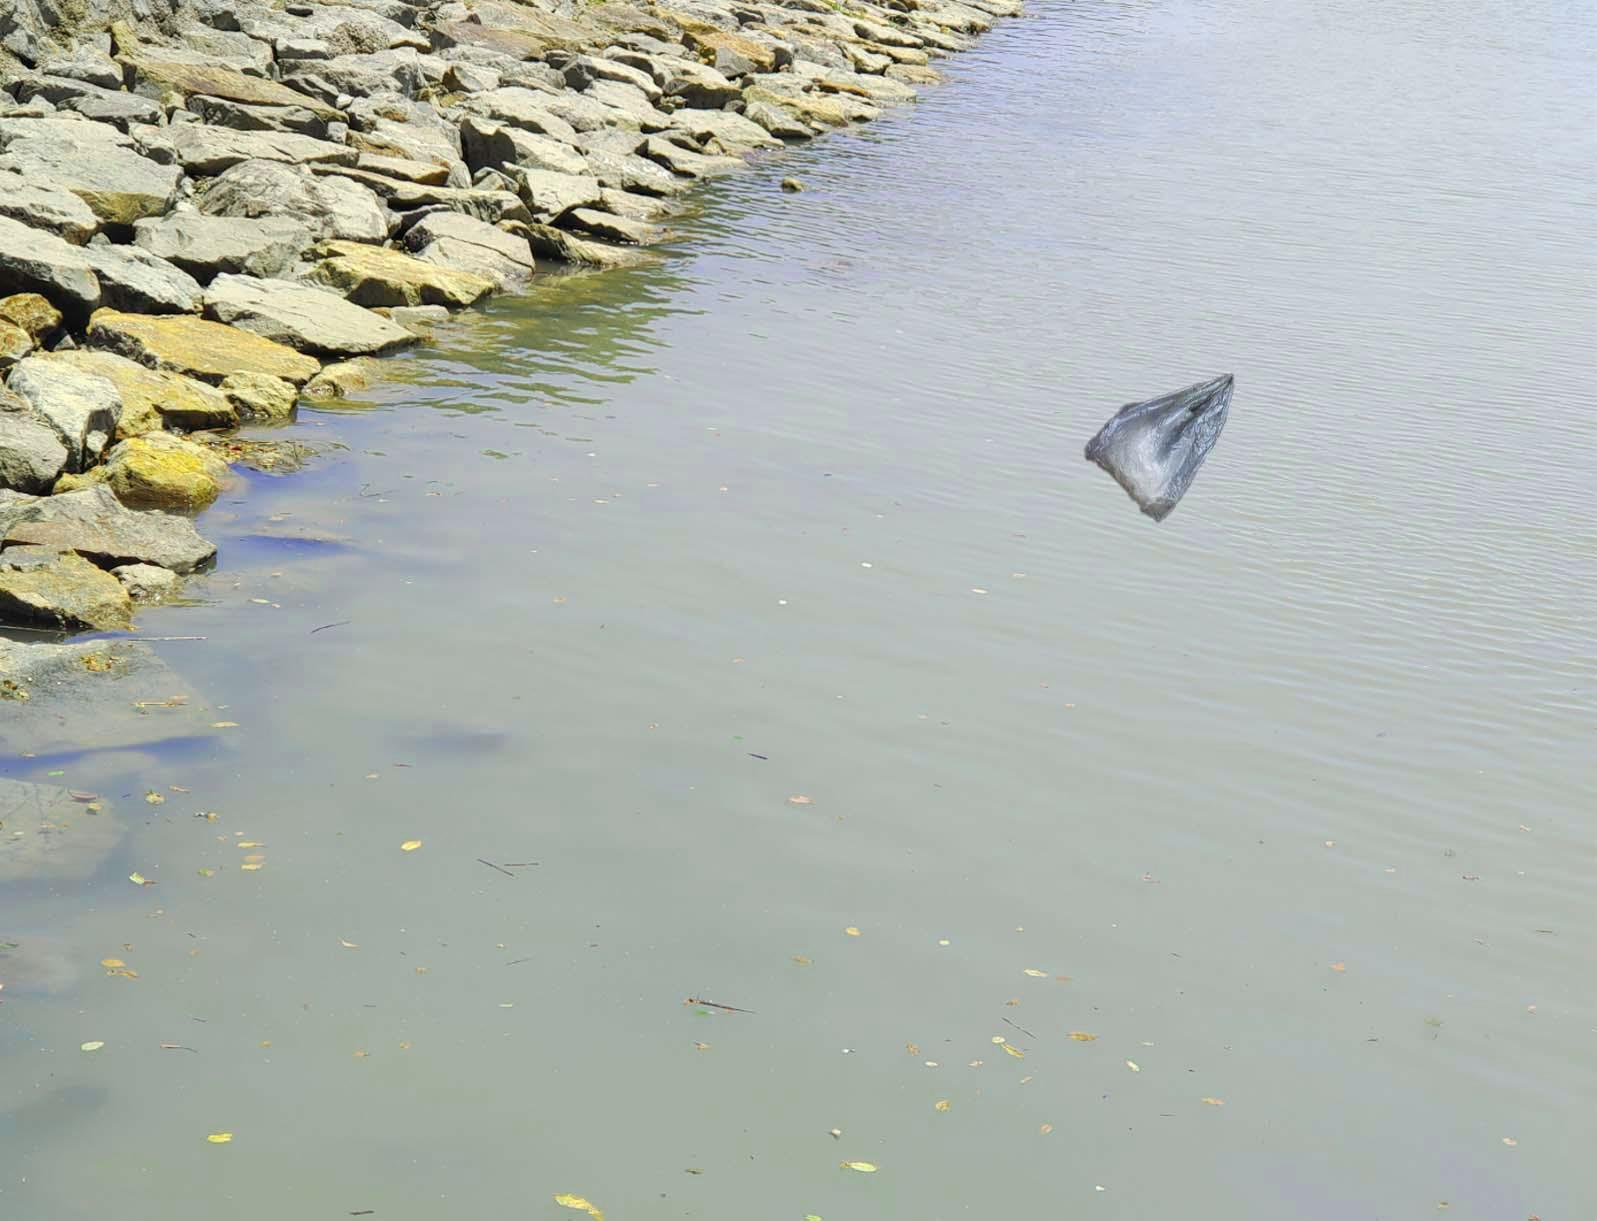Trash: (1083, 360, 1235, 518)
